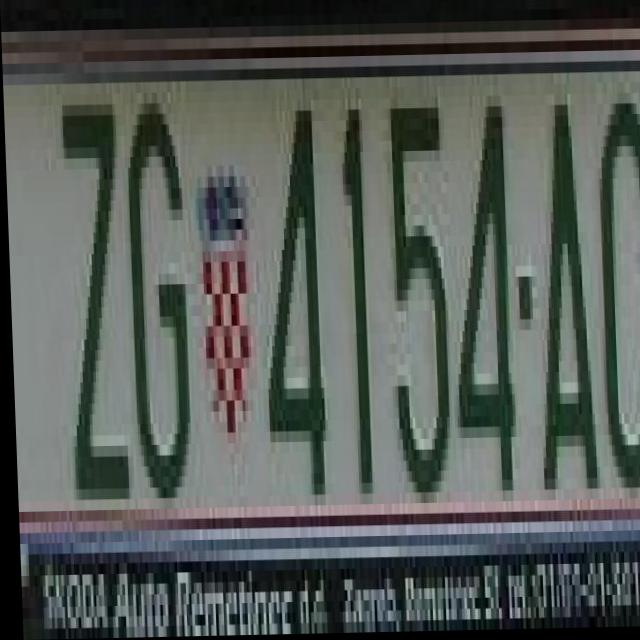1: (339, 100, 379, 485)
4: (250, 58, 329, 497), (449, 76, 523, 504)
5: (378, 88, 454, 495)
A: (529, 85, 591, 492)
C: (590, 106, 640, 502)
G: (120, 114, 197, 510)
Z: (50, 93, 131, 501)
